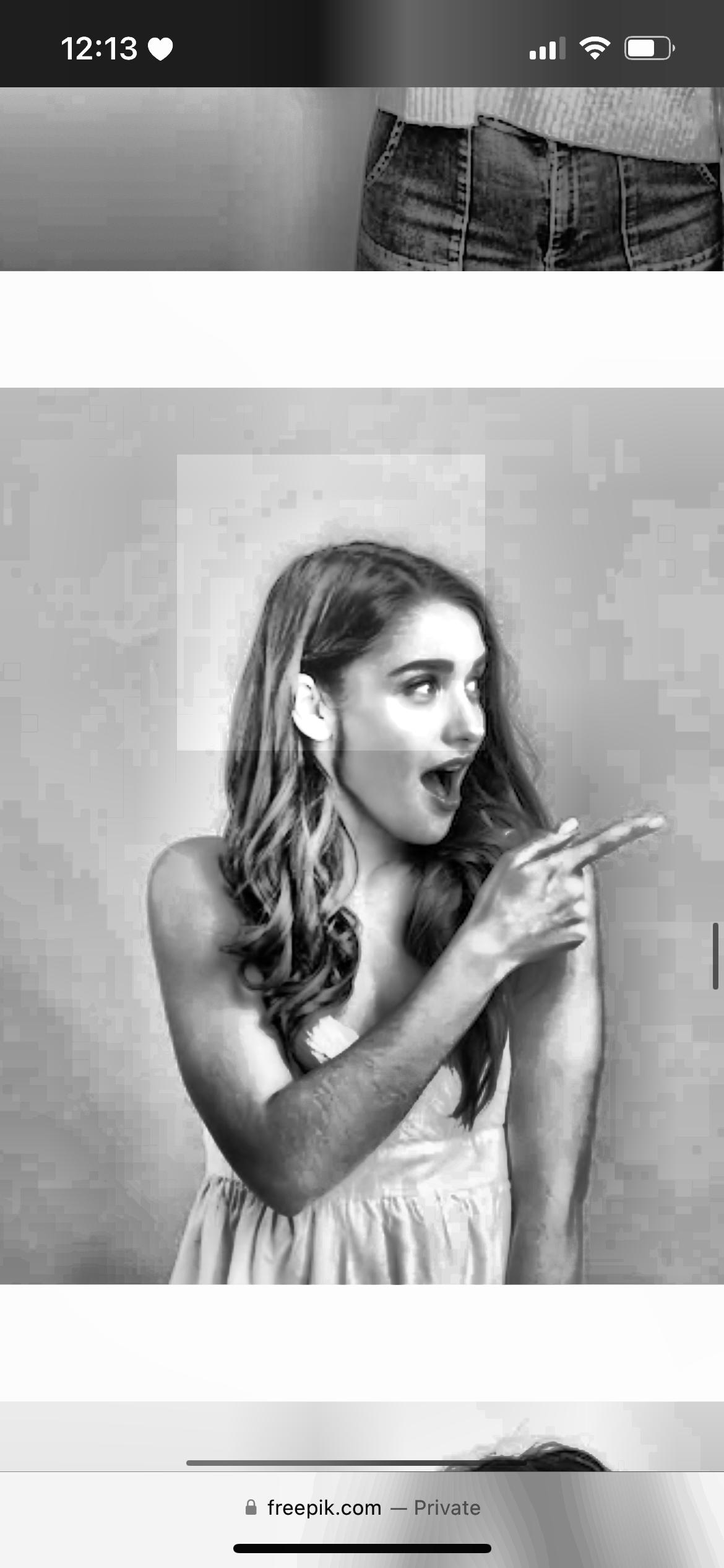surprised: (219, 562, 600, 928)
